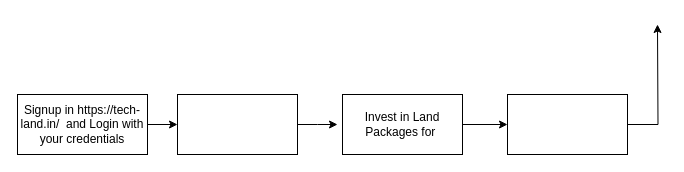
This 684x172 diagram has some shape labels left out. Here are the shapes that lost their labels. From the top down, the centre of each, then its label:
At (237,124): "Buy TLT , The amount of TLT bought will automatically add to your wallet".
At (567,124): "Daily Profit will be add in your wallet everyday".
